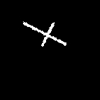single_crochet: (23, 22, 65, 45)
